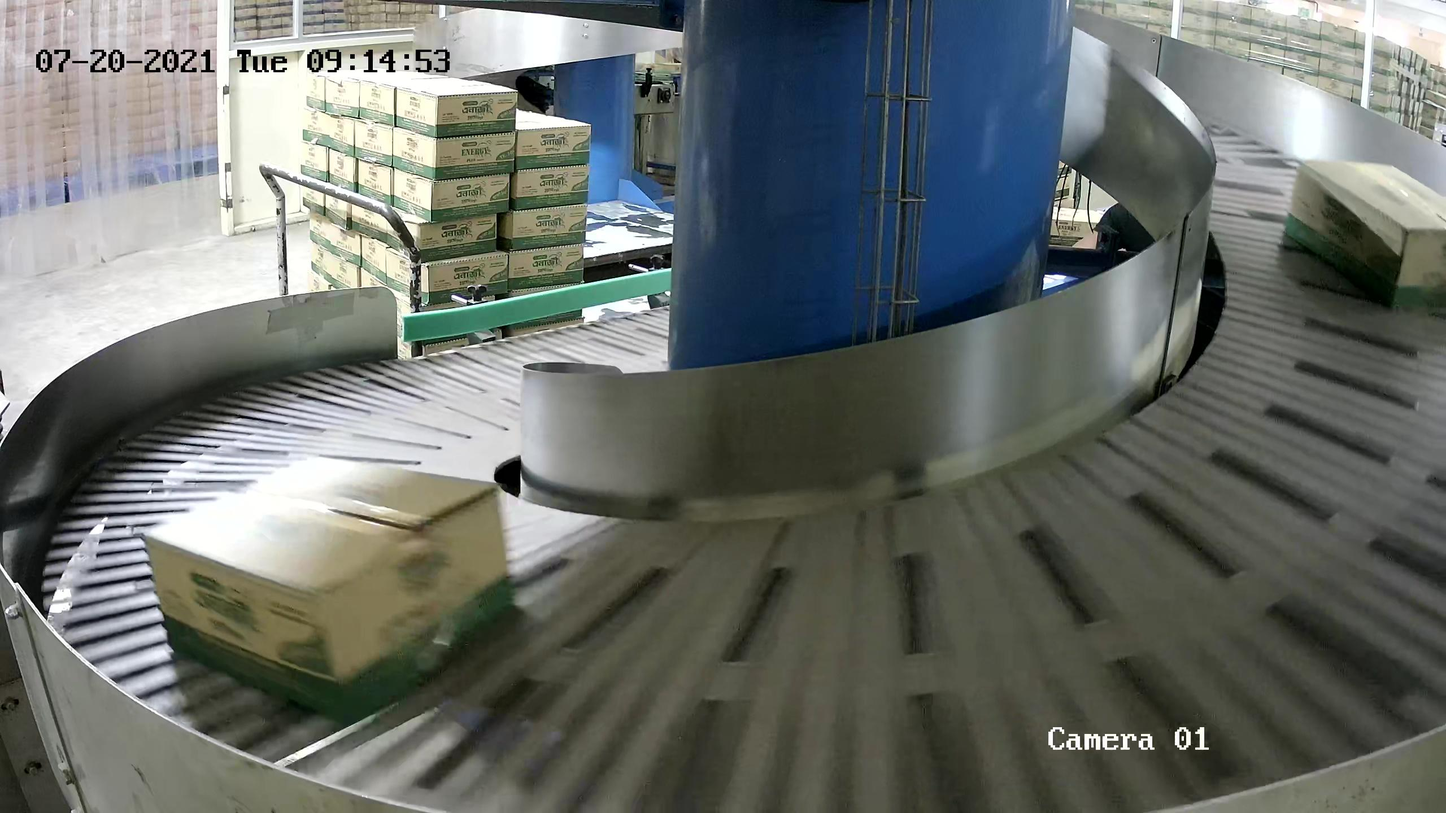Box: (137, 450, 519, 729), (1282, 157, 1446, 314)
